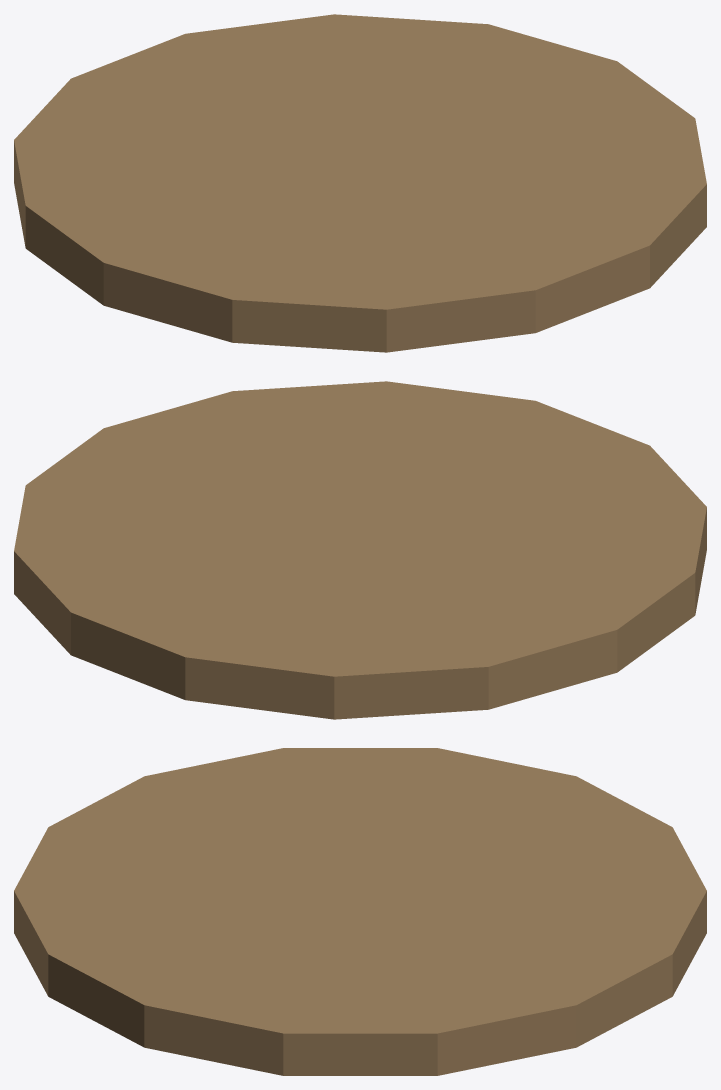
Rendered from mug_grime.glb.
3 views of the same model, one above another, from view 1: azimuth 30°, elevation 25°; view 2: azimuth 150°, elevation 25°; view 3: azimuth 270°, elevation 25° (orthographic).
Visible parts, largest first — view 1: MugGrime; view 2: MugGrime; view 3: MugGrime.
Boxes of the visible parts, x1=… form: MugGrime: x1=14, y1=14, x2=706, y2=352; MugGrime: x1=14, y1=381, x2=706, y2=719; MugGrime: x1=14, y1=748, x2=706, y2=1075.
Size of the model in its own units: 0.0721 by 0.005 by 0.074.
